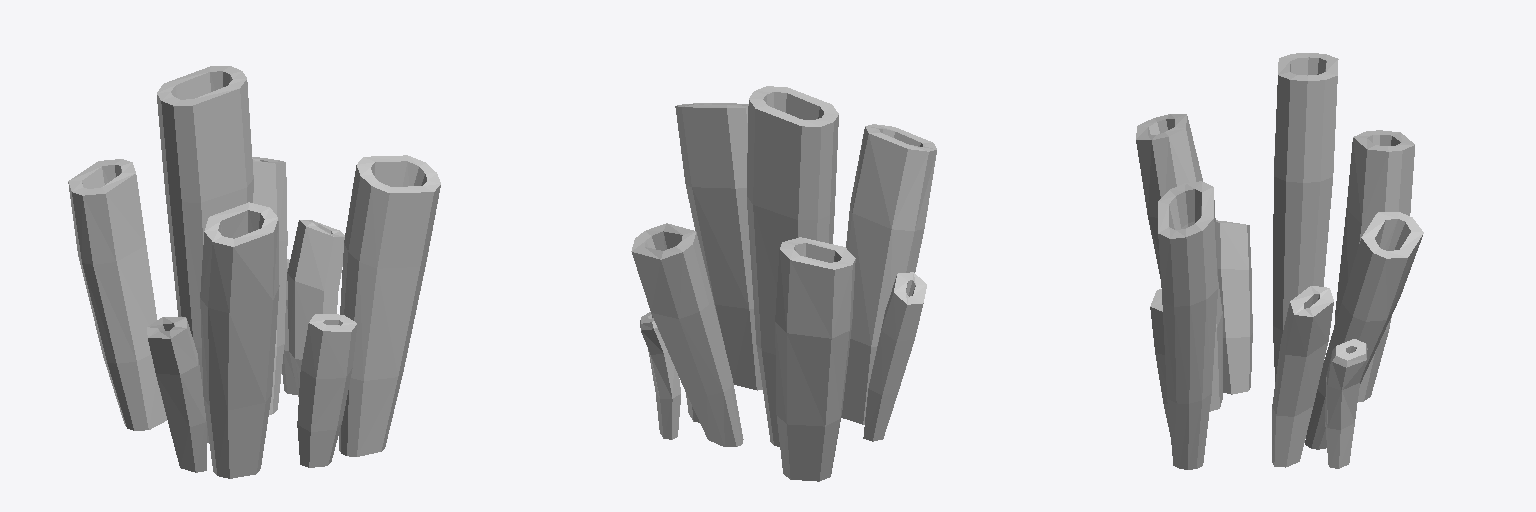
File: Coral_D_01_LOD1.obj
3 views of the same model, side by side, from view 1: azimuth 30°, elevation 25°; view 2: azimuth 150°, elevation 25°; view 3: azimuth 270°, elevation 25° (orthographic).
Visible parts, largest first — view 1: Coral_D_01_LOD1_Cylinder.399; view 2: Coral_D_01_LOD1_Cylinder.399; view 3: Coral_D_01_LOD1_Cylinder.399.
Boxes of the visible parts, x1,y1,x2,y2 form: Coral_D_01_LOD1_Cylinder.399: [68, 66, 440, 478]; Coral_D_01_LOD1_Cylinder.399: [631, 86, 936, 481]; Coral_D_01_LOD1_Cylinder.399: [1136, 53, 1423, 469].
Bounding box in the file's own units: 3.89 × 4.83 × 3.61.